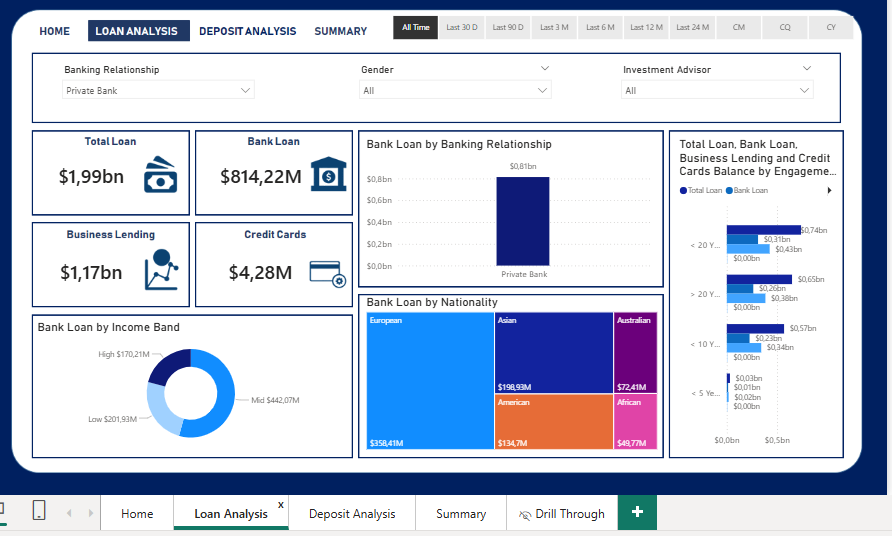

What the dashboard file says about the page in this screenshot:
{"tool":"powerbi","page":{"name":"Loan Analysis","canvas":[1280,720],"ordinal":2},"visuals":[{"type":"slicer","fields":{"Values":["banking_case customer.Year of Joining"]},"box":[733.3,32.2,504.1,34.9],"z":0},{"type":"actionButton","box":[36.4,31.7,99.7,39.6],"z":1000},{"type":"actionButton","box":[348.2,31.7,221.6,39.6],"z":2000},{"type":"actionButton","box":[587.1,31.7,123.4,39.6],"z":3000},{"type":"card","fields":{"Values":["banking_case customer.Total Loan"]},"box":[100.9,243.7,179.5,65.5],"z":4000},{"type":"card","fields":{"Values":["Sum(banking_case customer.Bank Loans)"]},"box":[369.5,243.7,179.5,65.5],"z":5000},{"type":"card","fields":{"Values":["Sum(banking_case customer.Business Lending)"]},"box":[100.9,360.4,179.5,65.5],"z":6000},{"type":"card","fields":{"Values":["Sum(banking_case customer.Credit Card Balance)"]},"box":[370.8,360.4,179.5,65.5],"z":7000},{"type":"donutChart","fields":{"Category":["banking_case customer.Income Band"],"Y":["Sum(banking_case customer.Bank Loans)"]},"box":[66.8,488.8,530.7,176.9],"z":8000},{"type":"clusteredColumnChart","fields":{"Category":["banking_case customer.BRId"],"Y":["Sum(banking_case customer.Bank Loans)"]},"box":[613.3,243.7,293.5,182.1],"z":9000},{"type":"clusteredColumnChart","fields":{"Category":["banking_case customer.Nationality"],"Y":["Sum(banking_case customer.Bank Loans)"]},"box":[613.3,488.8,293.5,182.1],"z":10000},{"type":"clusteredColumnChart","fields":{"Category":["banking_case customer.BRId"],"Y":["Sum(banking_case customer.Bank Loans)"]},"box":[933.7,245.3,292.8,425.7],"z":11000},{"type":"slicer","fields":{"Values":["banking_case customer.BRId"]},"box":[66.8,123.2,428.5,57.7],"z":12000},{"type":"slicer","fields":{"Values":["banking_case customer.GenderId"]},"box":[512.4,123.2,302.7,57.7],"z":13000},{"type":"slicer","fields":{"Values":["banking_case customer.IAId"]},"box":[843.9,123.2,364.3,57.7],"z":14000}]}

Visuals, with their boxes on the page's 1280x720 design canvas (x1, y1, x2, y2). These are canvas units, not pixel positions in the 892x536 screenshot, which may show the page scaled, cropped or inside an application window:
slicer - banking_case customer.Year of Joining: {"left": 733, "top": 32, "right": 1237, "bottom": 67}
actionButton: {"left": 36, "top": 32, "right": 136, "bottom": 71}
actionButton: {"left": 348, "top": 32, "right": 570, "bottom": 71}
actionButton: {"left": 587, "top": 32, "right": 710, "bottom": 71}
card - banking_case customer.Total Loan: {"left": 101, "top": 244, "right": 280, "bottom": 309}
card - Sum(banking_case customer.Bank Loans): {"left": 370, "top": 244, "right": 549, "bottom": 309}
card - Sum(banking_case customer.Business Lending): {"left": 101, "top": 360, "right": 280, "bottom": 426}
card - Sum(banking_case customer.Credit Card Balance): {"left": 371, "top": 360, "right": 550, "bottom": 426}
donutChart - banking_case customer.Income Band x Sum(banking_case customer.Bank Loans): {"left": 67, "top": 489, "right": 598, "bottom": 666}
clusteredColumnChart - banking_case customer.BRId x Sum(banking_case customer.Bank Loans): {"left": 613, "top": 244, "right": 907, "bottom": 426}
clusteredColumnChart - banking_case customer.Nationality x Sum(banking_case customer.Bank Loans): {"left": 613, "top": 489, "right": 907, "bottom": 671}
clusteredColumnChart - banking_case customer.BRId x Sum(banking_case customer.Bank Loans): {"left": 934, "top": 245, "right": 1226, "bottom": 671}
slicer - banking_case customer.BRId: {"left": 67, "top": 123, "right": 495, "bottom": 181}
slicer - banking_case customer.GenderId: {"left": 512, "top": 123, "right": 815, "bottom": 181}
slicer - banking_case customer.IAId: {"left": 844, "top": 123, "right": 1208, "bottom": 181}
